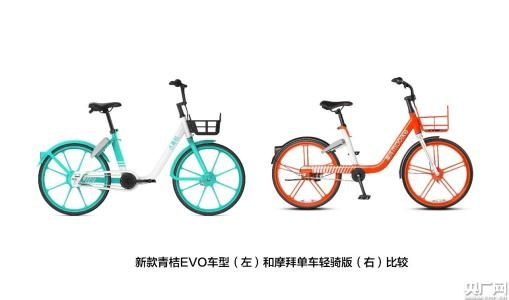non-vehicle: (35, 73, 250, 215), (266, 72, 475, 210)
